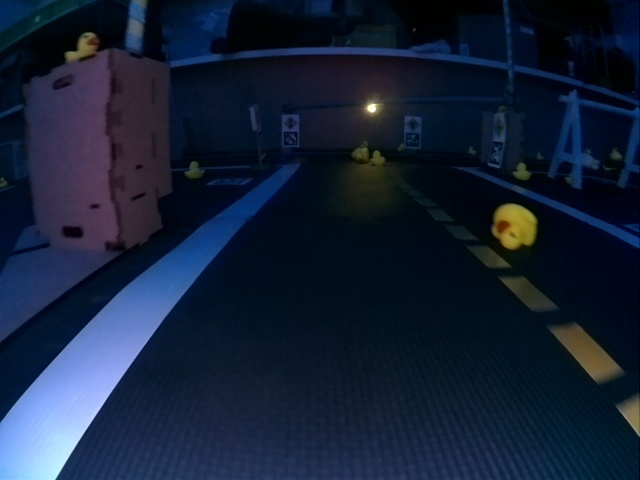Duckie: (491, 203, 538, 247), (66, 34, 99, 62), (184, 161, 205, 178), (512, 163, 531, 181), (371, 150, 385, 165), (468, 147, 477, 156)
Intersection sign: (493, 117, 503, 137), (406, 118, 419, 130)
QR code: (488, 142, 503, 166), (208, 177, 248, 186), (406, 133, 419, 147), (284, 131, 297, 145)
Signal sign: (283, 116, 297, 129)
Traffic light: (366, 103, 380, 115)
